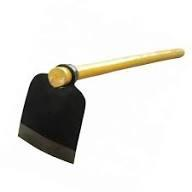HOUE: (14, 44, 192, 192)
